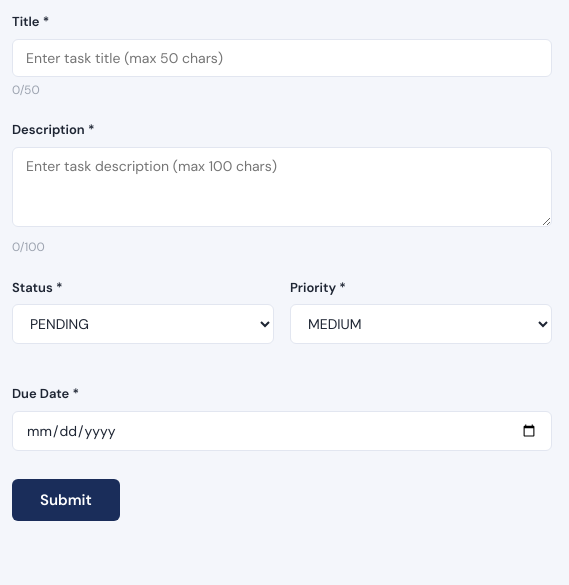
Test case: TaskForm — form validation › shows error when description is empty on submit
The width and height of the screenshot is (569, 585).
Type "Valid Title" into the field with placeholder "Enter task title (max 50 chars)" at (282, 58), box [12,39,552,77]
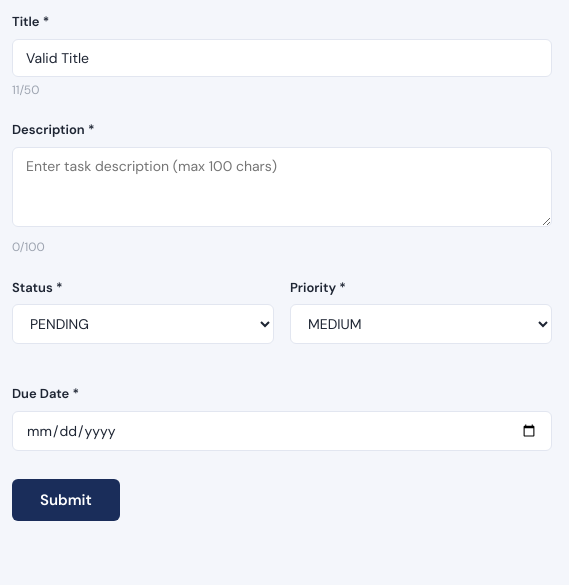
Click the button "Submit" at (66, 500), box [12,479,120,521]
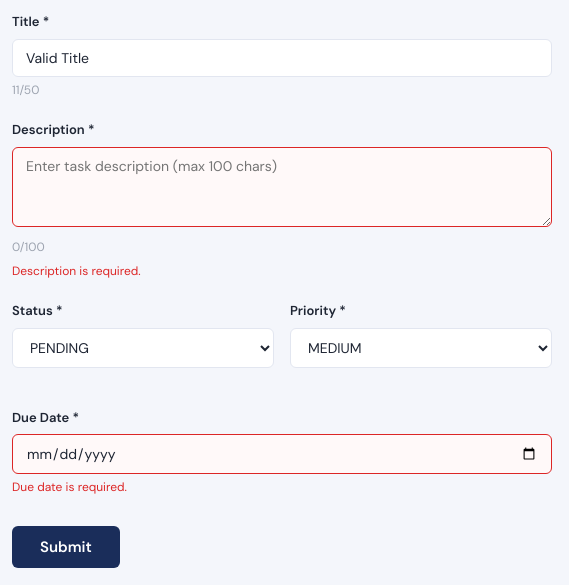
Expected: the text "Description is required." is shown, [12,263,141,279]
